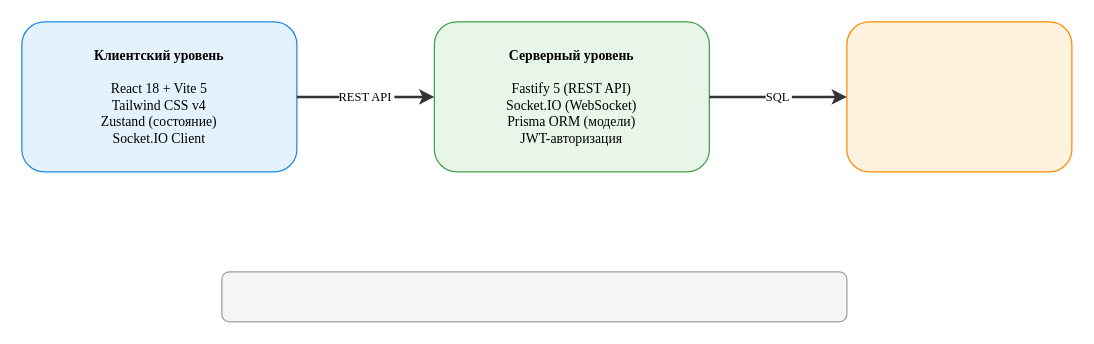
Image size: 1094x344. Some labels were removed from this diagram. The shapes that lost their labels are listed below. From the top down, each one's box as (x1, y1, x2, y2) in pixels, then its label:
(846, 21, 1072, 172): Уровень данных PostgreSQL 16 Prisma Migrate 11 таблиц
(221, 271, 847, 322): Docker Compose: nginx:80, backend:3000, postgres:5432
